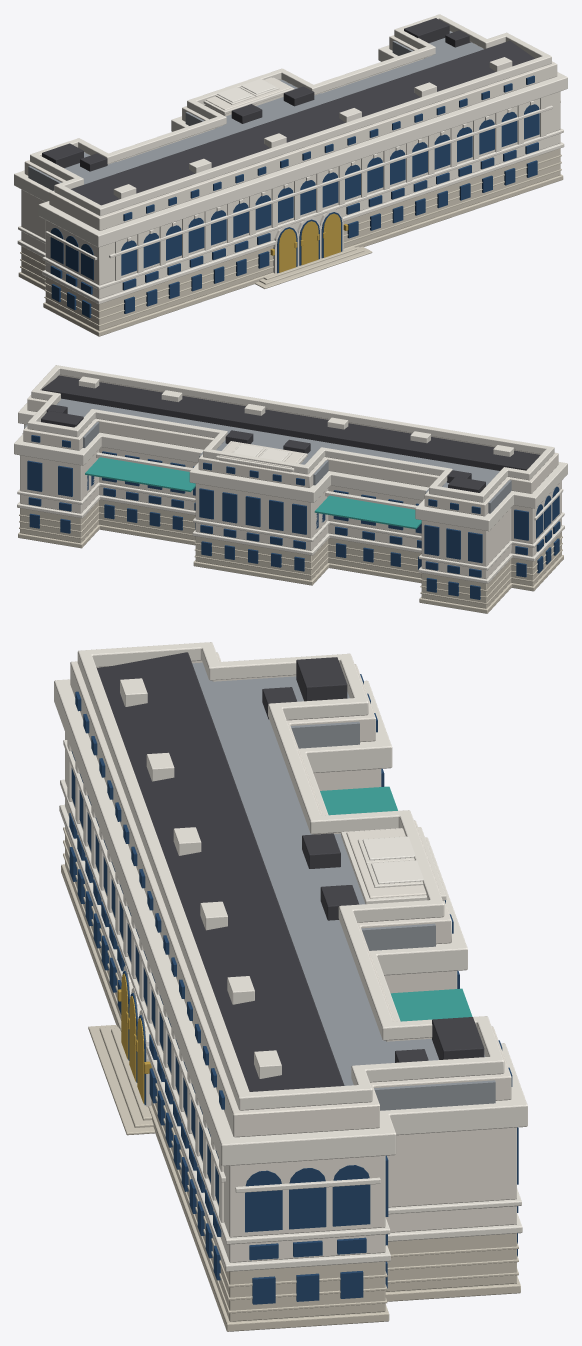
Rendered from earl-warren-building.glb.
The picture shows the model from 3 angles, top to bottom: view 1: azimuth 30°, elevation 25°; view 2: azimuth 150°, elevation 25°; view 3: azimuth 270°, elevation 25°; orthographic projection. The views are drawn at different scales.
Visible parts, largest first — view 1: grp_Toy_trim, grp_Toy_cream, grp_Toy_glass, grp_Toy_stone, grp_Toy_roofd, grp_Toy_steel, grp_Toy_gold_Glow, grp_Toy_white_Glow; view 2: grp_Toy_trim, grp_Toy_cream, grp_Toy_stone, grp_Toy_glass, grp_Toy_roofd, grp_Toy_steel, grp_Toy_teal, grp_Toy_white_Glow; view 3: grp_Toy_trim, grp_Toy_roofd, grp_Toy_cream, grp_Toy_steel, grp_Toy_stone, grp_Toy_glass, grp_Toy_teal, grp_Toy_white_Glow, grp_Toy_gold_Glow.
Boxes of the visible parts, <box> form: grp_Toy_trim: <box>14,14,567,304</box>; grp_Toy_cream: <box>21,35,560,299</box>; grp_Toy_glass: <box>50,75,539,317</box>; grp_Toy_stone: <box>18,148,563,336</box>; grp_Toy_roofd: <box>42,18,534,205</box>; grp_Toy_steel: <box>28,31,483,190</box>; grp_Toy_gold_Glow: <box>270,213,348,272</box>; grp_Toy_white_Glow: <box>217,79,276,102</box>; grp_Toy_trim: <box>14,365,567,583</box>; grp_Toy_cream: <box>20,375,561,579</box>; grp_Toy_stone: <box>18,499,563,613</box>; grp_Toy_glass: <box>27,435,560,599</box>; grp_Toy_roofd: <box>41,375,540,492</box>; grp_Toy_steel: <box>24,398,511,513</box>; grp_Toy_teal: <box>85,457,421,529</box>; grp_Toy_white_Glow: <box>233,444,289,460</box>; grp_Toy_trim: <box>54,642,527,1271</box>; grp_Toy_roofd: <box>97,652,484,1091</box>; grp_Toy_cream: <box>65,652,516,1262</box>; grp_Toy_steel: <box>192,662,495,1110</box>; grp_Toy_stone: <box>61,827,520,1331</box>; grp_Toy_glass: <box>69,674,518,1304</box>; grp_Toy_teal: <box>320,786,472,1021</box>; grp_Toy_white_Glow: <box>362,836,423,884</box>; grp_Toy_gold_Glow: <box>117,973,151,1103</box>.
Bounding box in the file's own units: 119 × 27 × 50.03.
